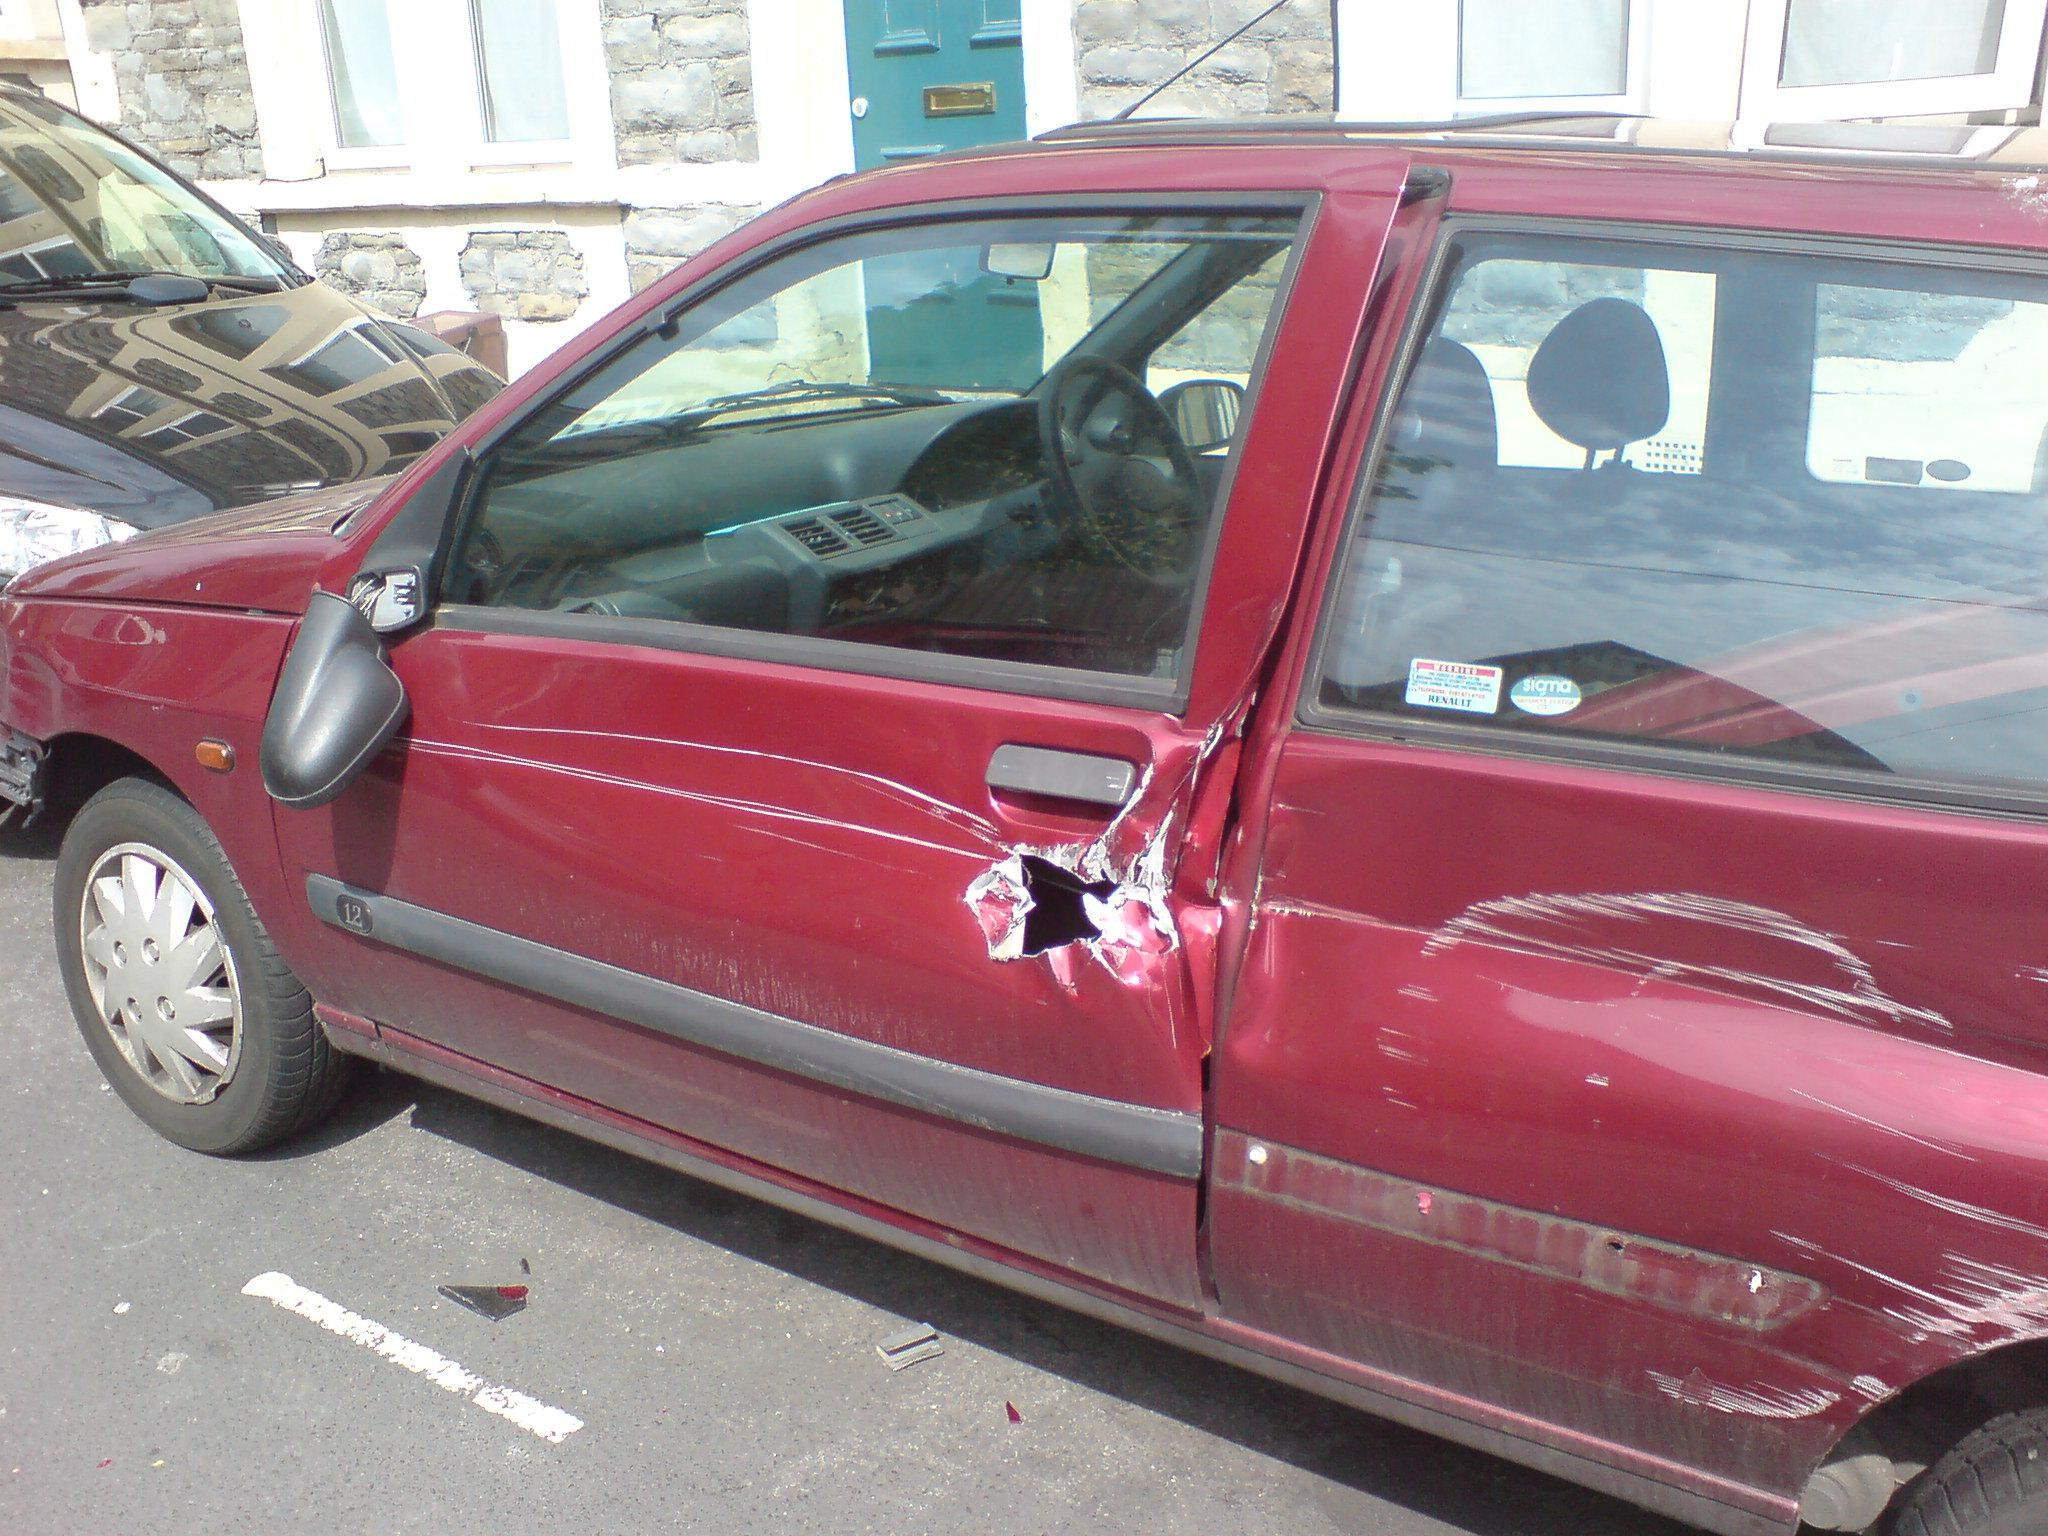doorouter-dent: (1222, 645, 2046, 1400), (423, 650, 1235, 1279)
fender-dent: (0, 574, 352, 879)
